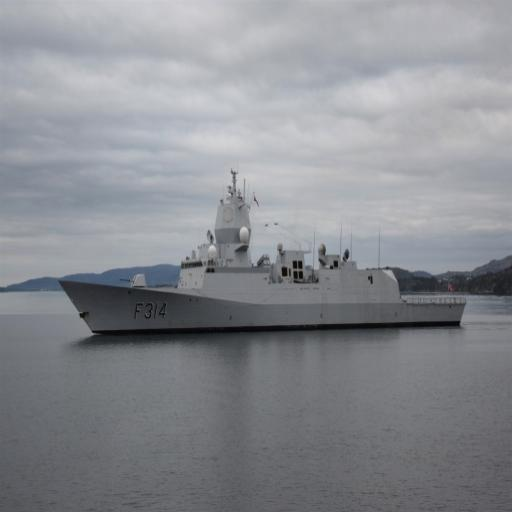Fragata: (54, 161, 473, 342)
